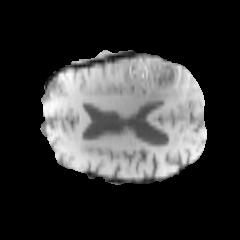glioma: (100, 53, 184, 109)
